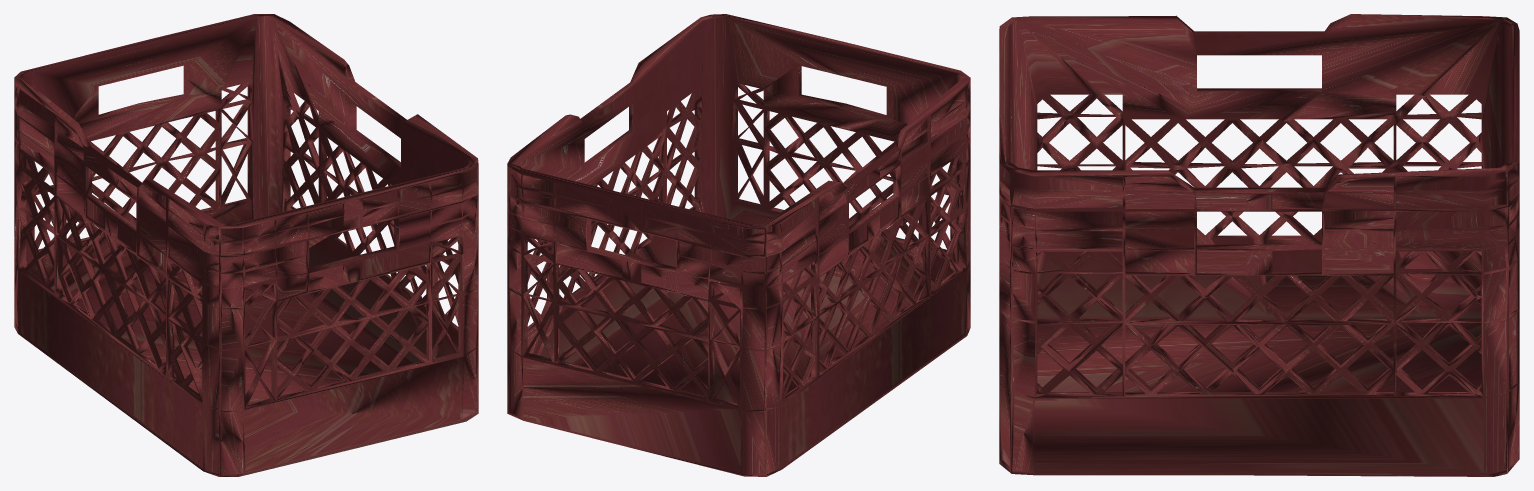
The model's file is plastic_crate_01.glb.
The picture shows the model from 3 angles, left to right: view 1: azimuth 30°, elevation 25°; view 2: azimuth 150°, elevation 25°; view 3: azimuth 270°, elevation 25°; orthographic projection. The views are drawn at different scales.
Bounding box in the file's own units: 0.298 × 0.2642 × 0.408.
1 material, 1 textured.
